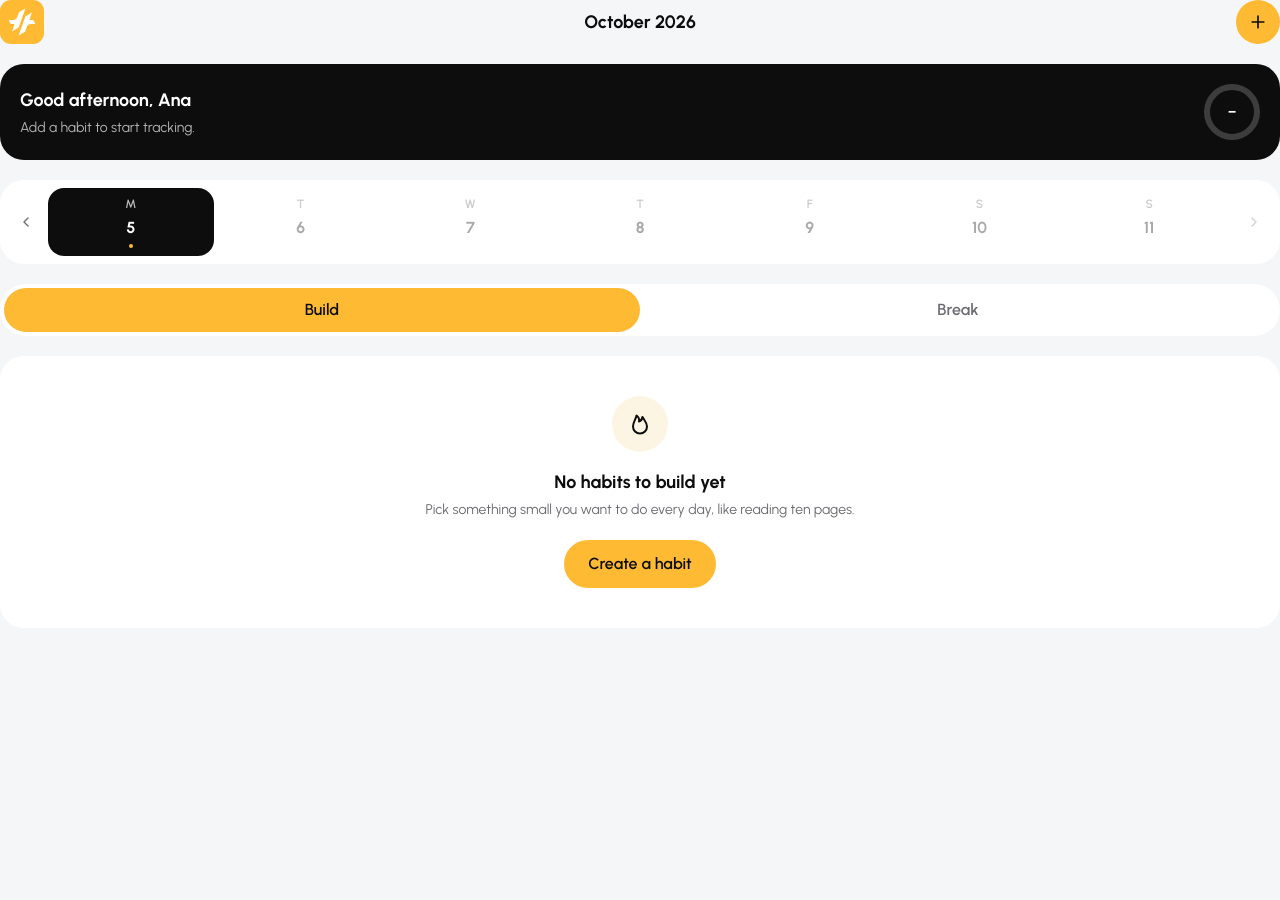
it: today › asks before logging a relapse, and sends nothing on cancel
Click the tab "Break" at (958, 310), box [640,288,1276,332]
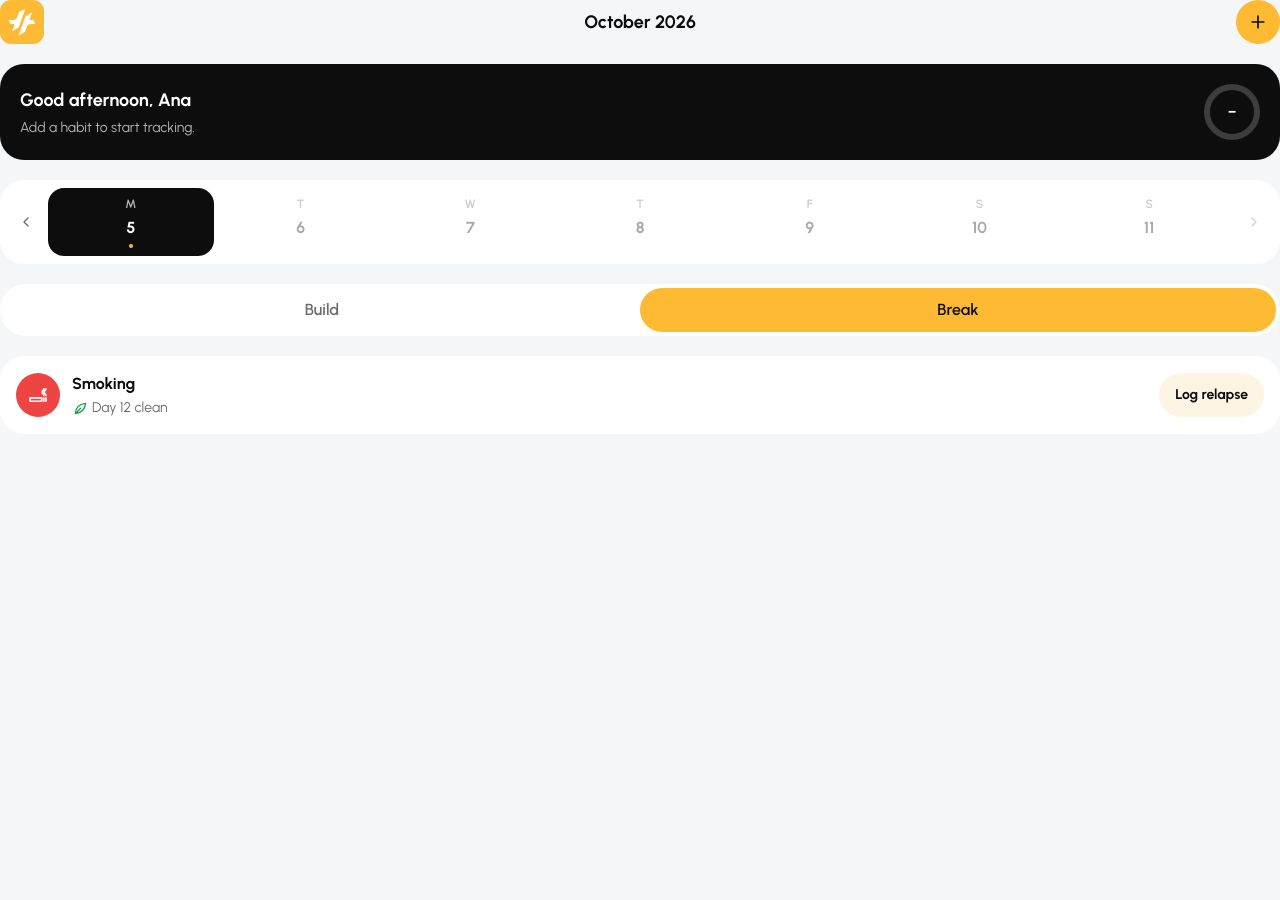
Expected: the text "Day 12 clean" is shown, [72,398,168,418]
Click the button "Log relapse" at (1212, 395), box [1159,373,1264,417]
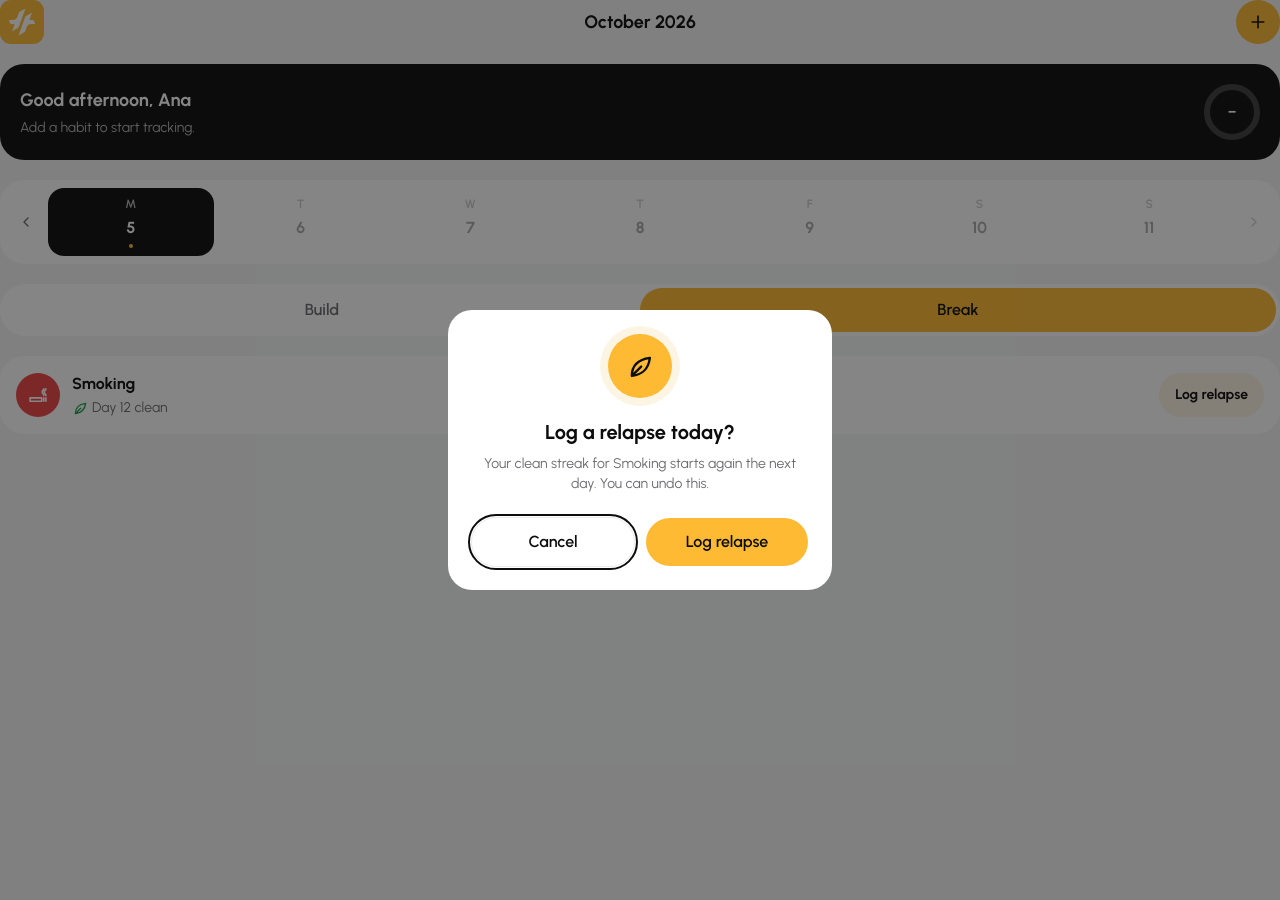
Expected: the dialog shows "Log a relapse today?", [545,420,735,444]
Click the button "Cancel" at (553, 542), box [472,518,634,566]
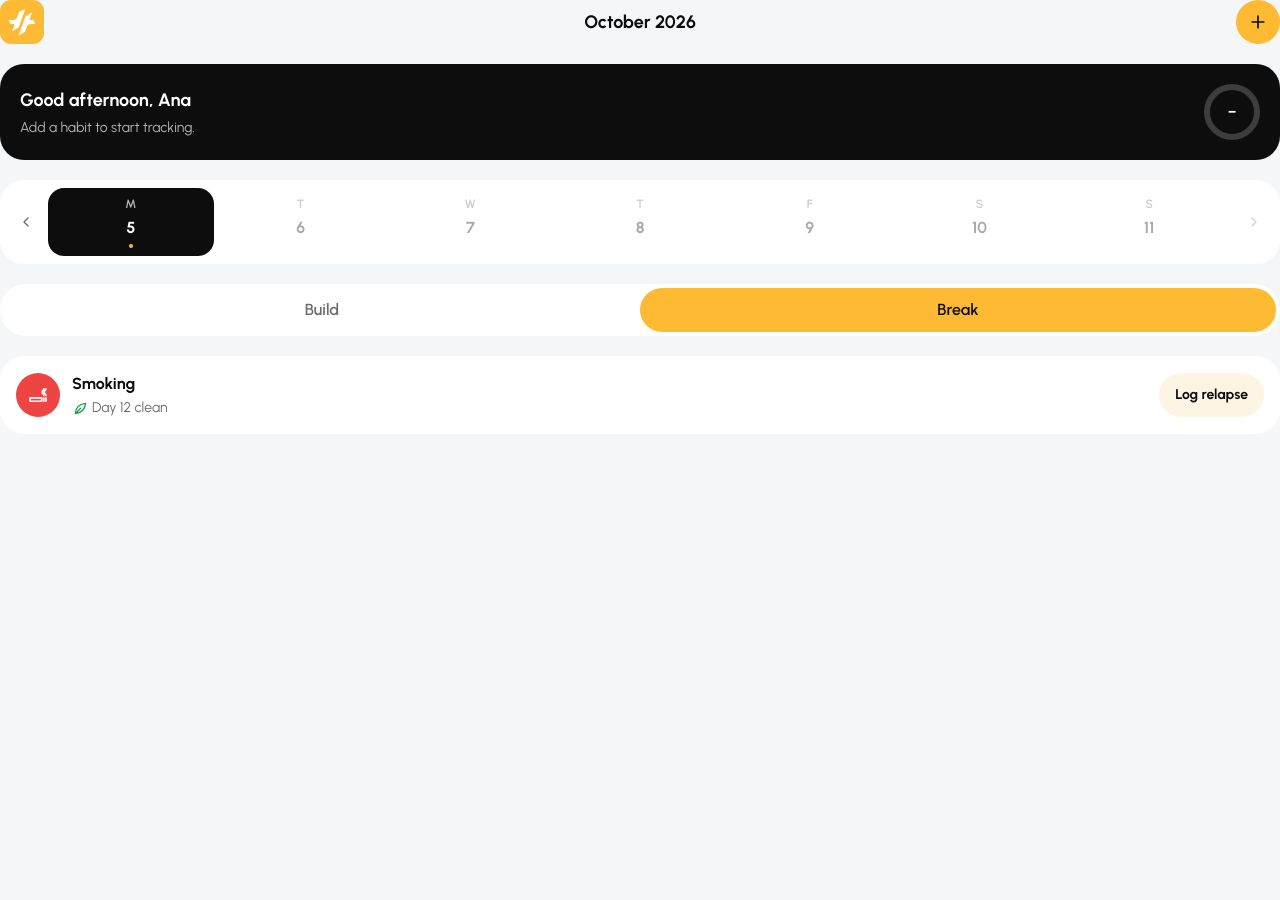
Expected: the dialog is gone
